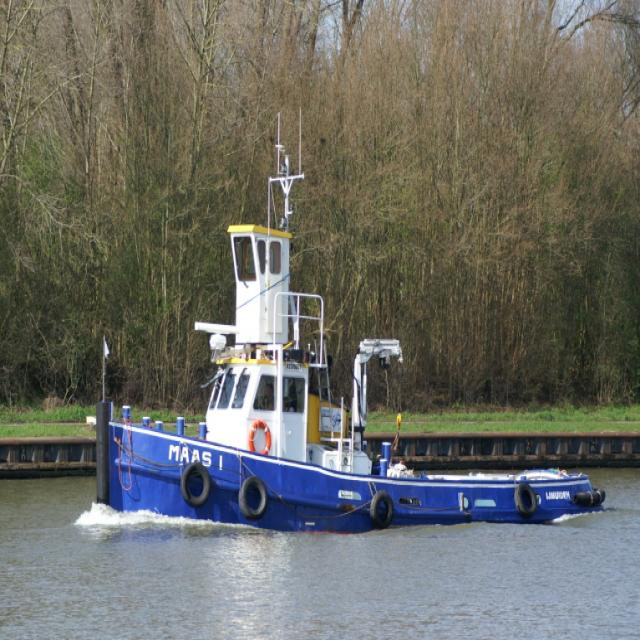tugboat: (89, 222, 611, 549)
